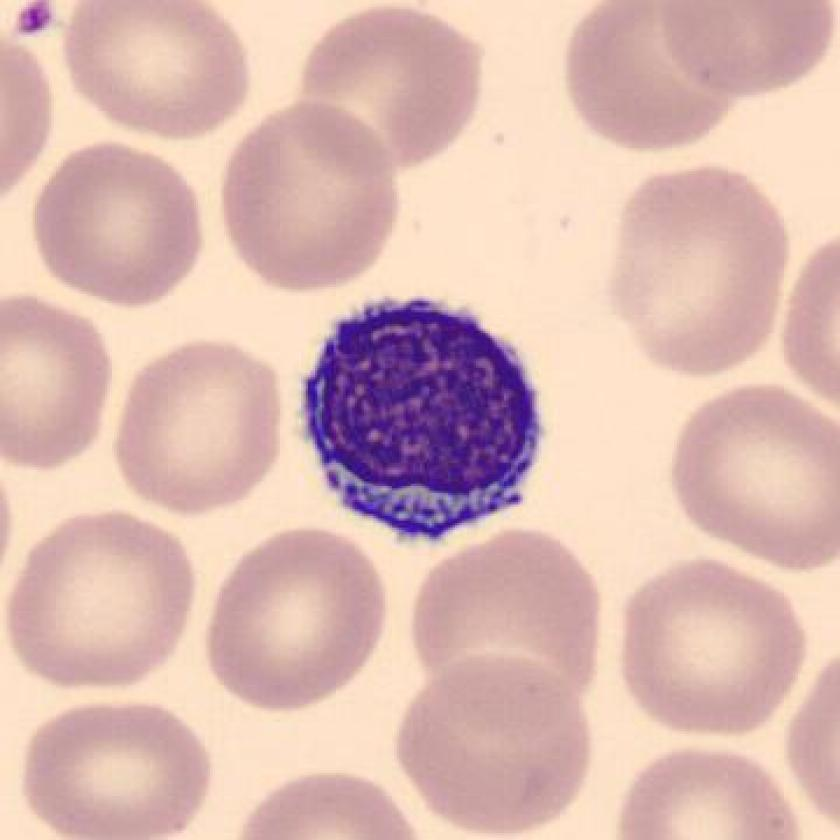lymphocyte: (279, 279, 561, 566)
